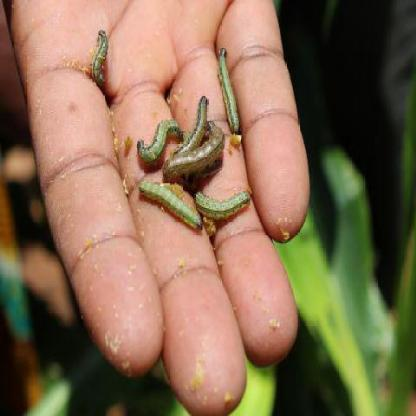armyworm: (162, 124, 232, 182), (136, 176, 203, 235), (170, 96, 219, 160), (194, 174, 253, 224), (214, 42, 242, 142), (134, 117, 186, 164), (90, 29, 110, 84)
